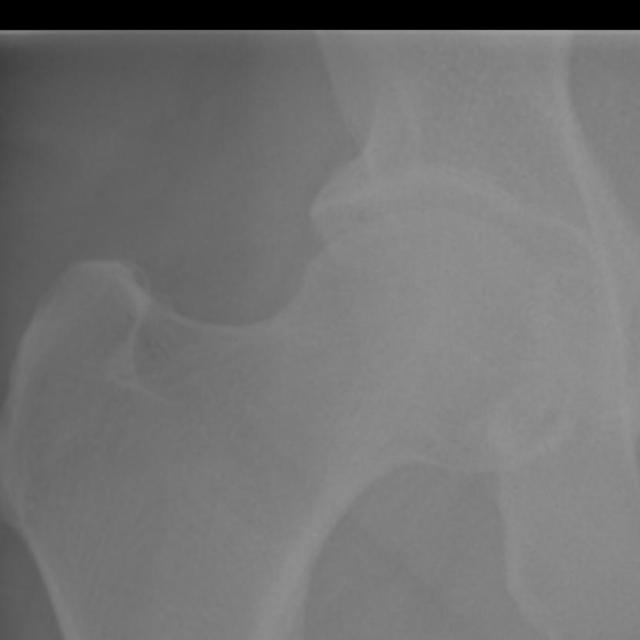Fitted_femural_head: (285, 209, 432, 285)
